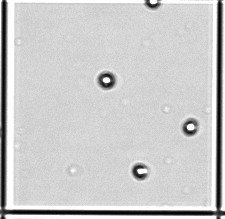Living Cell: (98, 71, 116, 89), (132, 163, 149, 180), (183, 118, 199, 136), (144, 1, 162, 9)
